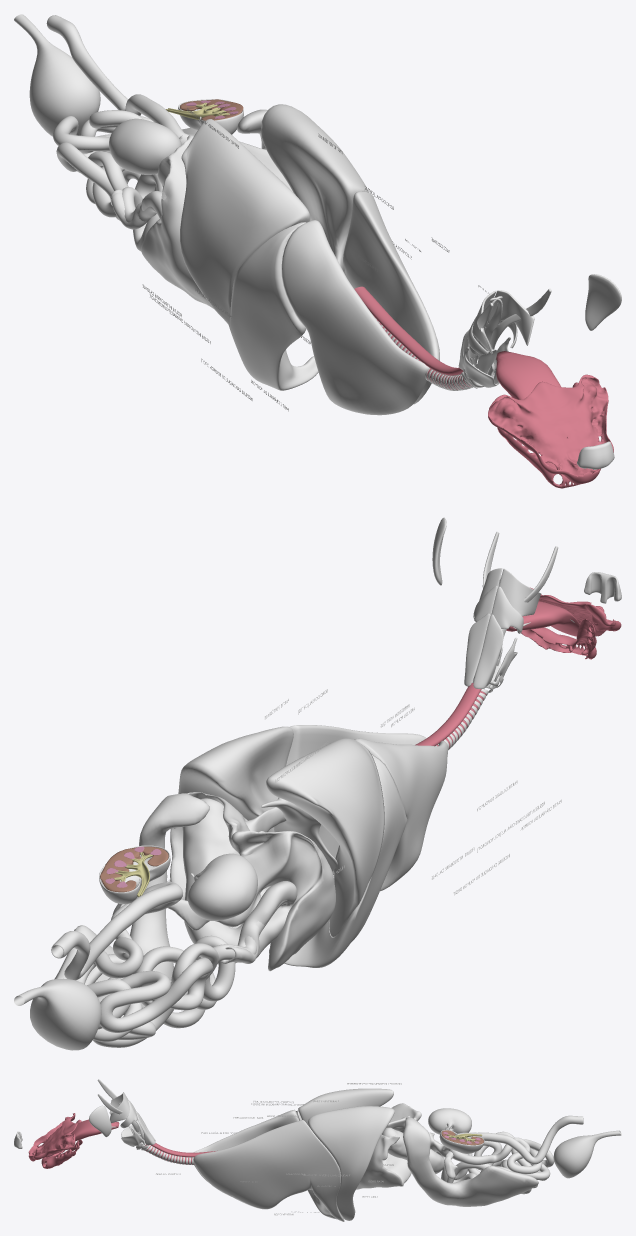
The model's file is Splanchnologie.fbx.
3 renders of one model, top to bottom at view 1: azimuth 30°, elevation 25°; view 2: azimuth 150°, elevation 25°; view 3: azimuth 270°, elevation 25°, orthographic. The views are drawn at different scales.
Parts seen in each view (by area): view 1: Lobe crânial [poumon droit], Lobe caudal du poumon droit, Intestin grêle, Gencive, Lobe moyen [poumon droit], Lobe caudal du poumon gauche, Lobe crânial [poumon gauche], Vessie urinaire, Foie, Rein, Cavité buccale et structures associées, œsophage (+9 smaller); view 2: Intestin grêle, Lobe caudal du poumon droit, Foie, Estomac [Gaster], Lobe caudal du poumon gauche, Lobe crânial [poumon droit], Lobe moyen [poumon droit], Rein, Vessie urinaire, Pancréas, Muscles constricteurs caudaux du pharynx.r, Gencive (+7 smaller); view 3: Lobe crânial [poumon gauche], Lobe caudal du poumon gauche, Pancréas, Intestin grêle, Foie, Lobe caudal du poumon droit, Gencive, Vessie urinaire, Rein, Lobe crânial [poumon droit], Estomac [Gaster], Muscles constricteurs caudaux du pharynx.l (+7 smaller).
Part boxes in pixels (x1,y1,x2,y2): Lobe crânial [poumon droit]: [281, 220, 428, 415]; Lobe caudal du poumon droit: [179, 119, 310, 324]; Intestin grêle: [46, 15, 194, 251]; Gencive: [488, 374, 613, 488]; Lobe moyen [poumon droit]: [228, 222, 318, 390]; Lobe caudal du poumon gauche: [260, 104, 369, 273]; Lobe crânial [poumon gauche]: [343, 191, 439, 404]; Vessie urinaire: [14, 14, 100, 136]; Foie: [141, 135, 292, 309]; Rein: [109, 99, 243, 174]; Cavité buccale et structures associées: [496, 351, 560, 399]; œsophage: [354, 286, 463, 375]; Intestin grêle: [51, 882, 290, 1047]; Lobe caudal du poumon droit: [266, 738, 384, 937]; Foie: [112, 792, 335, 971]; Estomac [Gaster]: [182, 798, 297, 964]; Lobe caudal du poumon gauche: [178, 726, 293, 928]; Lobe crânial [poumon droit]: [354, 738, 448, 891]; Lobe moyen [poumon droit]: [269, 754, 407, 967]; Rein: [99, 845, 257, 920]; Vessie urinaire: [14, 978, 101, 1050]; Pancréas: [54, 793, 209, 1007]; Muscles constricteurs caudaux du pharynx.r: [473, 568, 541, 692]; Gencive: [521, 587, 621, 659]; Lobe crânial [poumon gauche]: [193, 1120, 344, 1221]; Lobe caudal du poumon gauche: [308, 1106, 394, 1220]; Pancréas: [403, 1117, 538, 1206]; Intestin grêle: [441, 1115, 583, 1194]; Foie: [356, 1103, 457, 1189]; Lobe caudal du poumon droit: [298, 1088, 393, 1125]; Gencive: [28, 1113, 82, 1168]; Vessie urinaire: [553, 1130, 621, 1178]; Rein: [428, 1108, 484, 1153]; Lobe crânial [poumon droit]: [193, 1109, 299, 1182]; Estomac [Gaster]: [382, 1127, 444, 1173]; Muscles constricteurs caudaux du pharynx.l: [110, 1093, 155, 1150].
Bounding box in the file's own units: 10.6 × 9.28 × 38.93.
